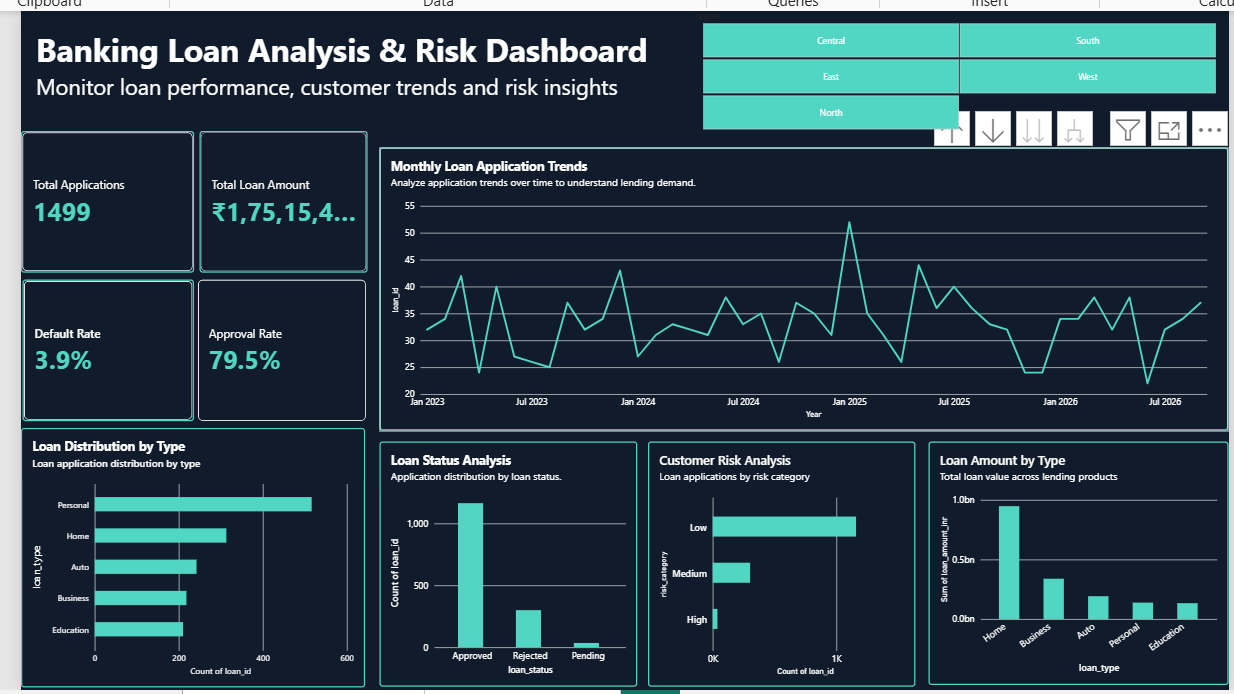

What the dashboard file says about the page in this screenshot:
{"tool":"powerbi","page":{"name":"Banking Loan Analysis","canvas":[1920,1080],"ordinal":0},"visuals":[{"type":"cardVisual","fields":{"Data":["Loans.Total Loans"]},"box":[0,190,275,225],"z":0},{"type":"cardVisual","fields":{"Data":["Loans.Total Loan Amount"]},"box":[285,190,267.5,225],"z":1000},{"type":"cardVisual","fields":{"Data":["Loans.Default Rate"]},"box":[2.5,427.5,272.5,225],"z":2000},{"type":"lineChart","title":"Monthly Loan Application Trends","fields":{"Category":["Loans.application_date.Variation.Date Hierarchy.Year","Loans.application_date.Variation.Date Hierarchy.Month"],"Y":["Count(Loans.loan_id)"]},"box":[570,217.5,1350,450],"z":3000},{"type":"cardVisual","fields":{"Data":["Loans.Approval Rate"]},"box":[282.5,427.5,267.5,225],"z":4000},{"type":"clusteredBarChart","title":"Loan Distribution by Type","fields":{"Category":["Loans.loan_type"],"Y":["CountNonNull(Loans.loan_id)"]},"box":[0,662.5,547.5,412.5],"z":5000},{"type":"clusteredColumnChart","title":"Loan Status Analysis","fields":{"Category":["Loans.loan_status"],"Y":["CountNonNull(Loans.loan_id)"]},"box":[570,685,410,390],"z":7000},{"type":"clusteredBarChart","title":"Customer Risk Analysis","fields":{"Category":["Loans.risk_category"],"Y":["CountNonNull(Loans.loan_id)"]},"box":[997.5,685,425,390],"z":7001},{"type":"clusteredColumnChart","title":"Loan Amount by Type","fields":{"Category":["Loans.loan_type"],"Y":["Sum(Loans.loan_amount_inr)"]},"box":[1442.5,685,477.5,387.5],"z":7002},{"type":"textbox","title":"Banking Loan Analysis & Risk Dashboard","box":[23.9,26.2,1040,190],"z":7003},{"type":"slicer","fields":{"Values":["Loans.region"]},"box":[1065,0,855,190],"z":7004}]}

Visuals, with their boxes in screenshot pixels (x1, y1, x2, y2):
cardVisual - Loans.Total Loans: <region>16, 127, 190, 269</region>
cardVisual - Loans.Total Loan Amount: <region>197, 127, 366, 269</region>
cardVisual - Loans.Default Rate: <region>18, 277, 190, 420</region>
"Monthly Loan Application Trends" lineChart: <region>377, 144, 1233, 430</region>
cardVisual - Loans.Approval Rate: <region>195, 277, 365, 420</region>
"Loan Distribution by Type" clusteredBarChart: <region>16, 426, 363, 688</region>
"Loan Status Analysis" clusteredColumnChart: <region>377, 441, 637, 688</region>
"Customer Risk Analysis" clusteredBarChart: <region>648, 441, 918, 688</region>
"Loan Amount by Type" clusteredColumnChart: <region>930, 441, 1233, 686</region>
"Banking Loan Analysis & Risk Dashboard" textbox: <region>31, 23, 690, 143</region>
slicer - Loans.region: <region>691, 6, 1233, 127</region>
